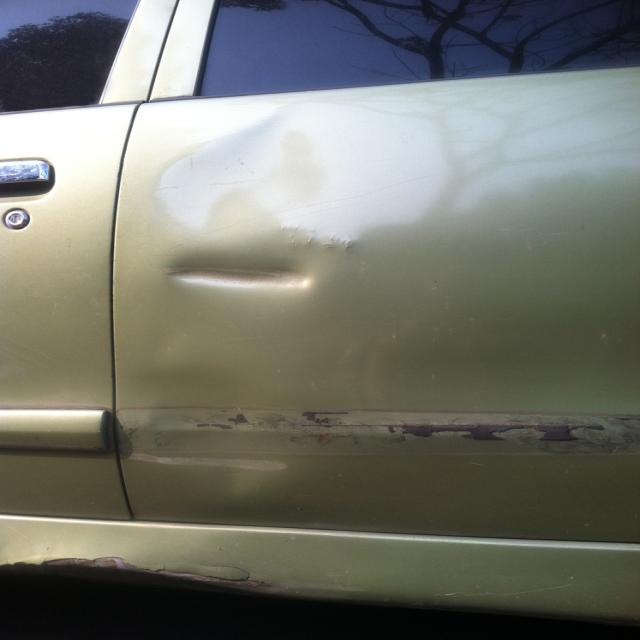dent: (160, 107, 322, 231), (149, 370, 285, 493), (161, 252, 309, 291)
scratch: (282, 410, 640, 456)
